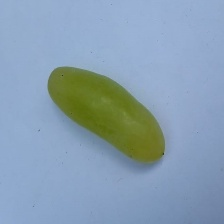grapes: (9, 10, 182, 186)
